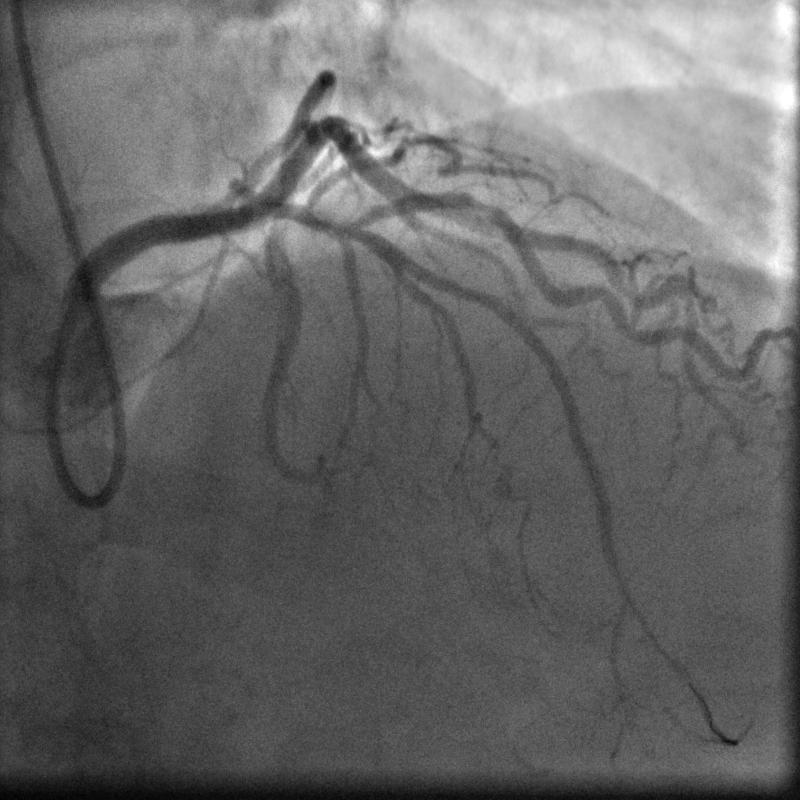Stenosis: (461, 188, 503, 229)
